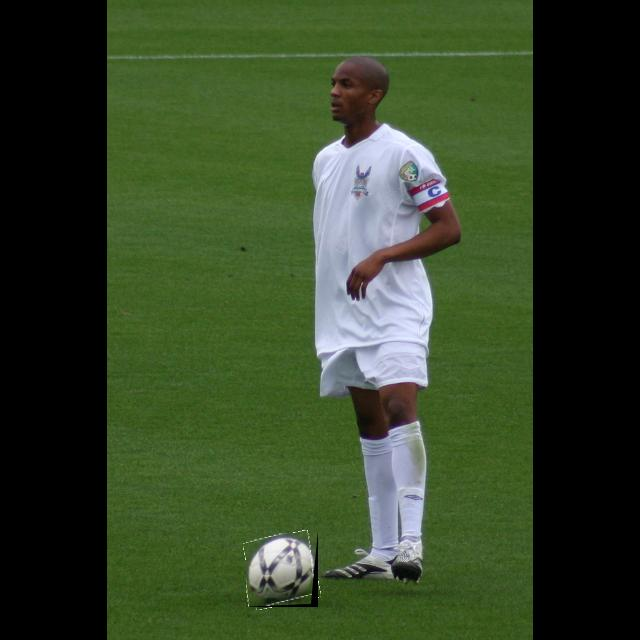Football: (246, 533, 318, 607)
